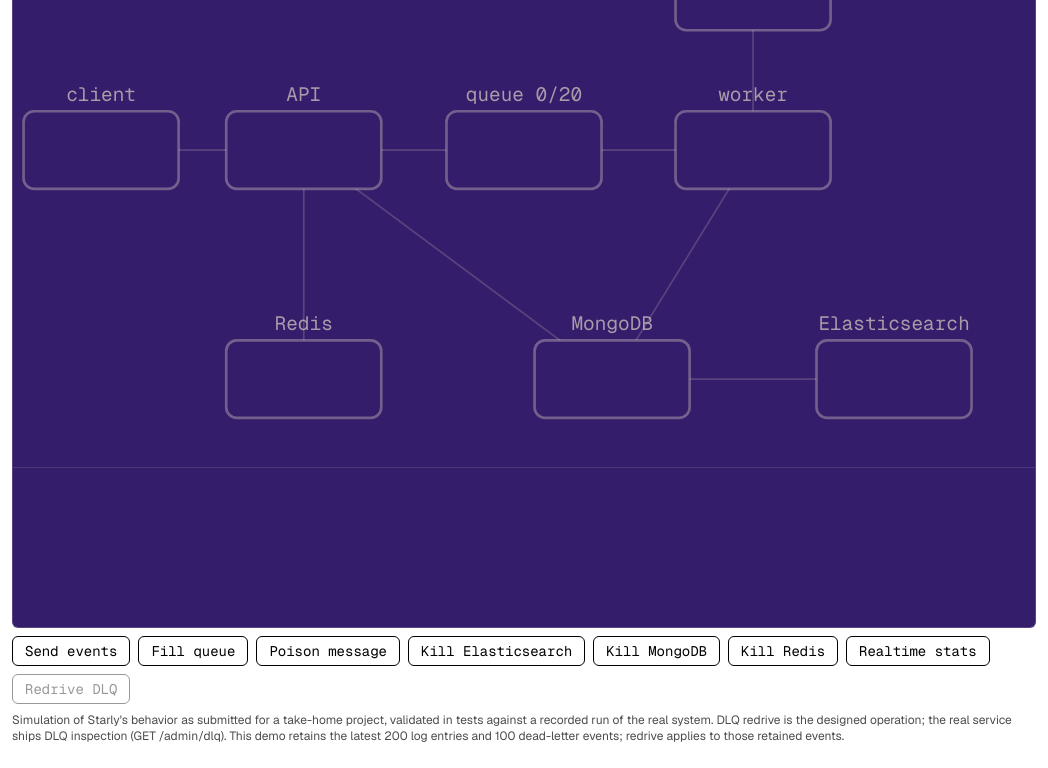
Test: Pipeline (reduced motion) › shows the Mongo fallback when Redis is down
The image size is (1048, 768).
(page scrolled)
Click the button "Kill Redis".
click(783, 651)  # box [728, 636, 838, 666]
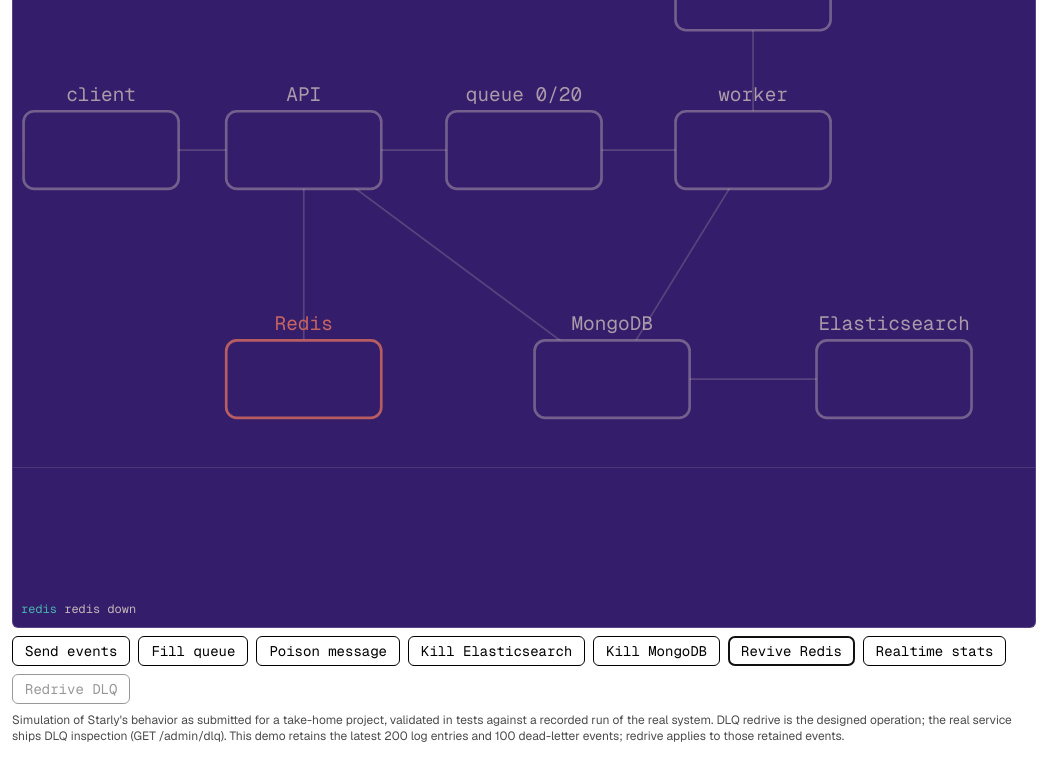
Click the button "Realtime stats".
click(935, 651)  # box [863, 636, 1006, 666]
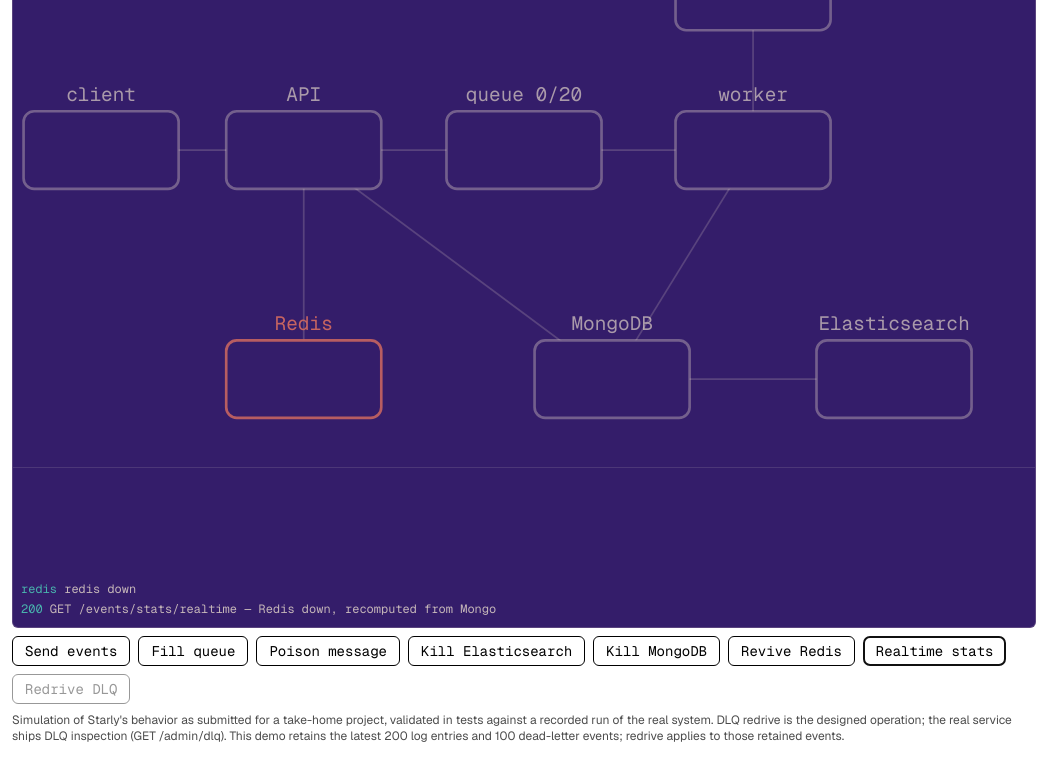
Expected: the element that starts with "redis" shows "recomputed from Mongo", [50, 601, 496, 617]
